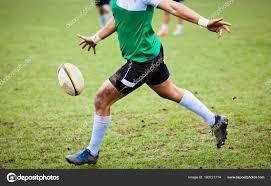ballon_rugby: (57, 62, 85, 96)
